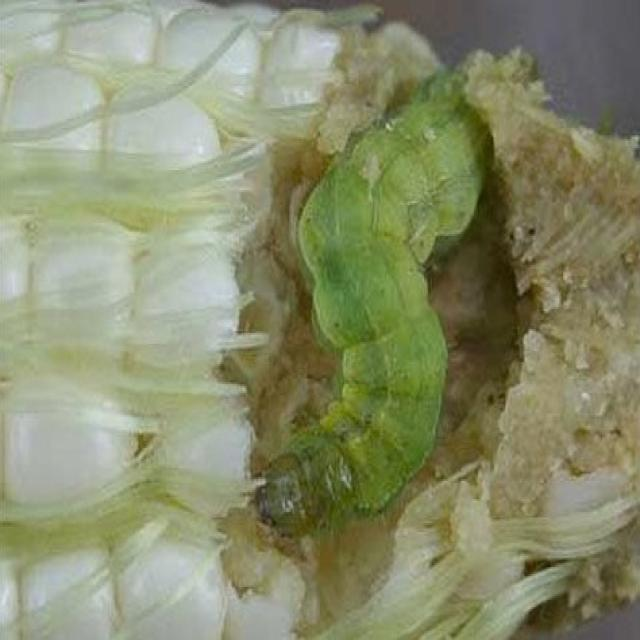worm: (250, 67, 495, 540)
